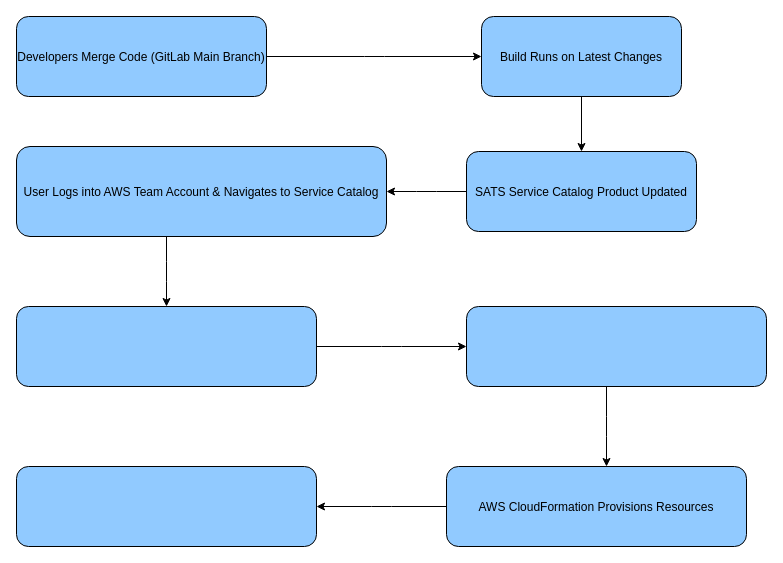
The diagram is 783 pixels wide and 563 high, and some of its shapes have lost their labels. Here are the shapes that lost their labels. From the top down, the centre of each, then its label:
At (166,346): "Selects SATS Product & Clicks Launch".
At (616,346): "Fills Out Details (Name, Tags, Env, Budget Code)".
At (166,506): "SATS Deployment Complete".
